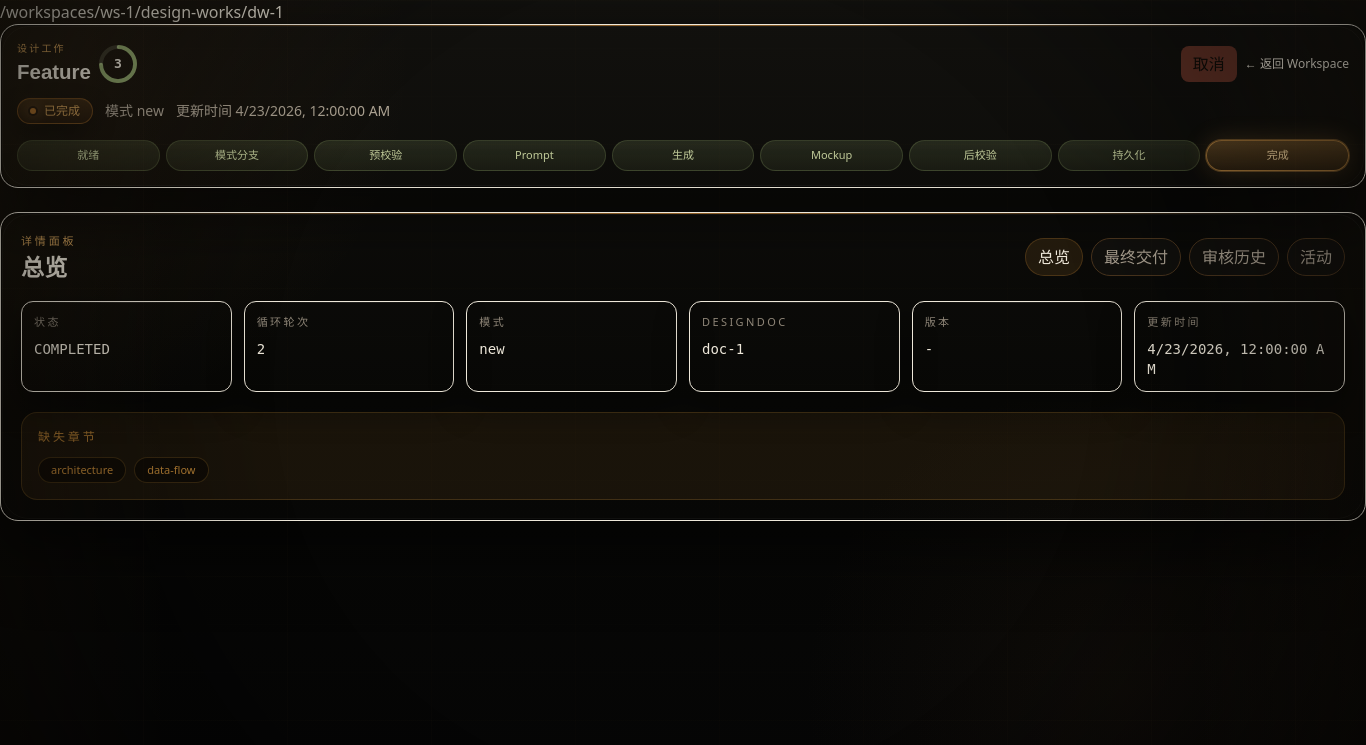
Scenario: DesignWorkPage › renders DesignDoc delivery as structured view with Markdown fallback
Click the tab with id "designwork-tab-delivery" at (1136, 257), box [1091, 238, 1181, 276]
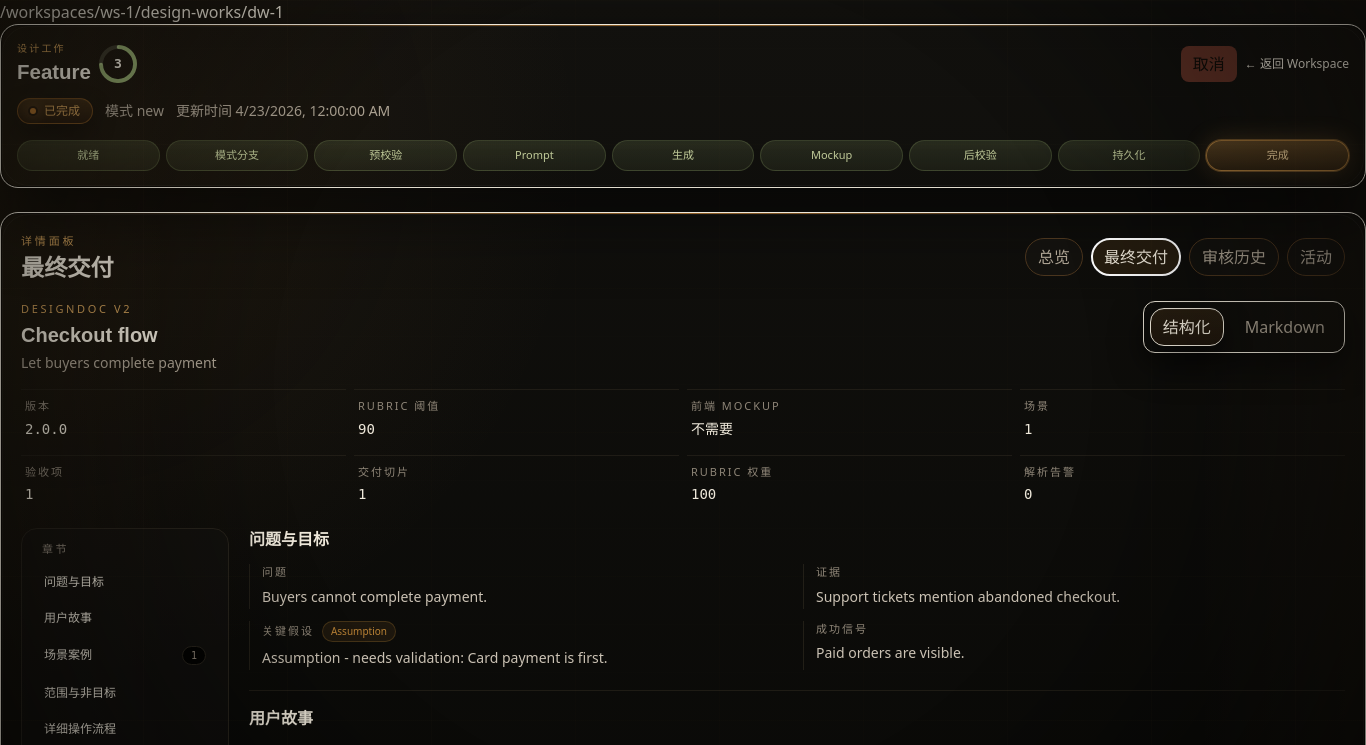
Result: the heading "Checkout flow" is shown at [21, 324, 158, 346]
Click the tab "Markdown" at (1285, 327), box [1232, 308, 1338, 346]
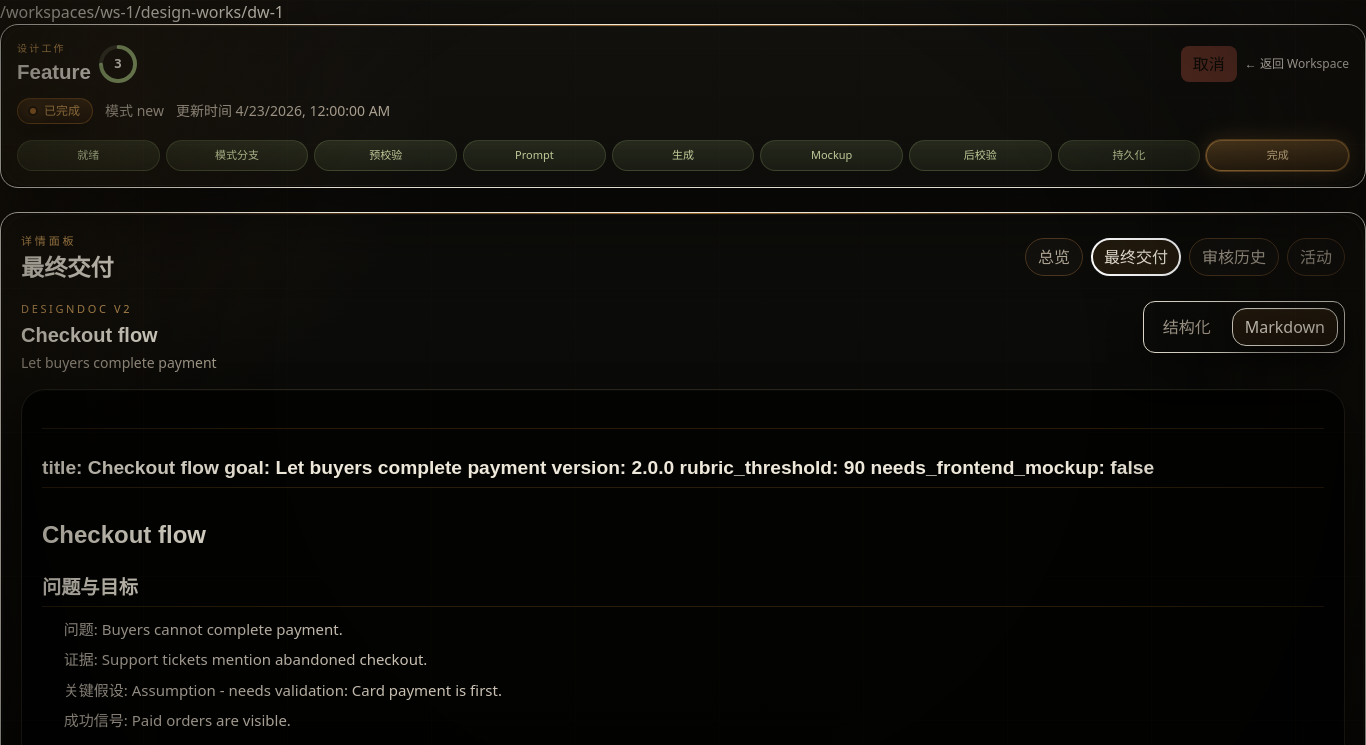
Result: the heading "问题与目标" is shown at [42, 576, 1324, 607]
Result: the text "验收项" is gone
